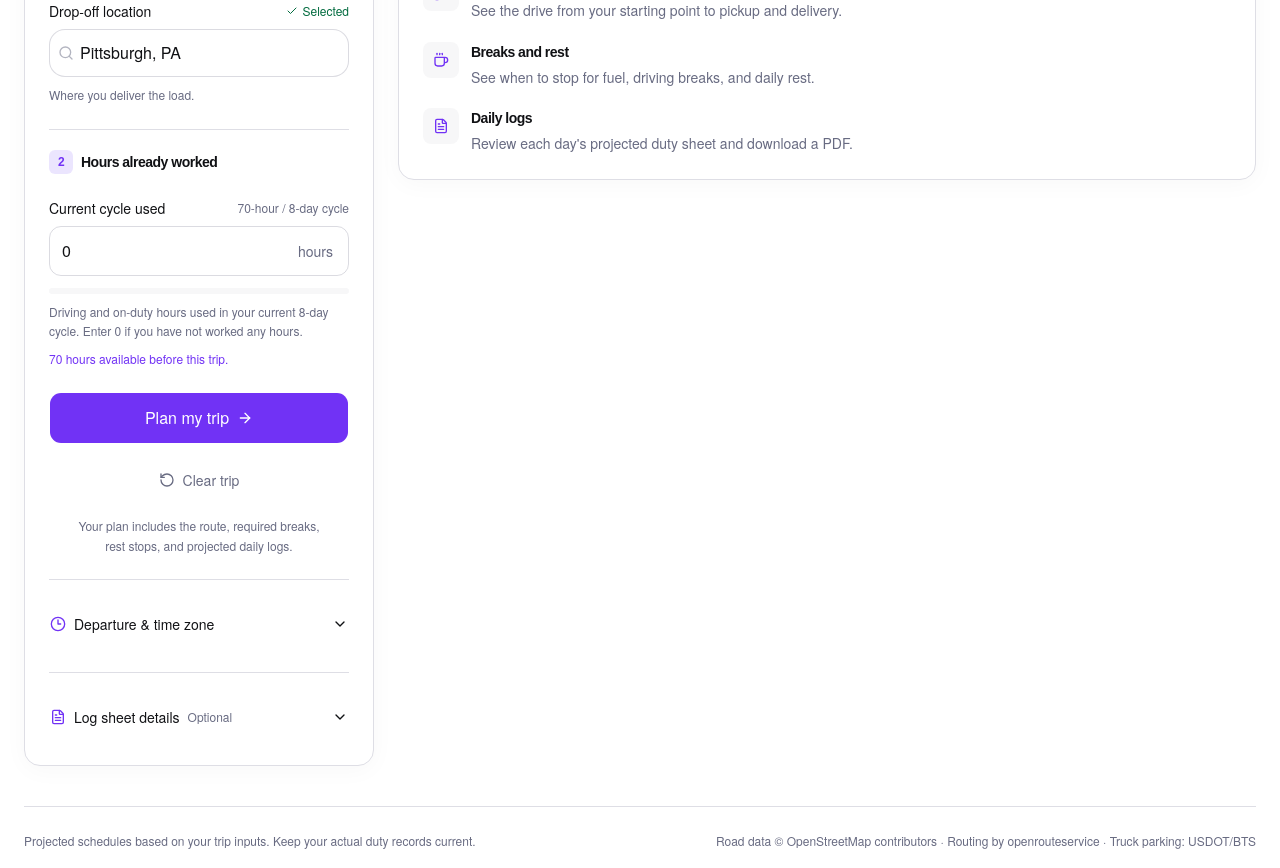
replaces the empty workspace with trip skeletons during planning and restores it when cancelled
(page scrolled)
Click the button "Plan my trip": (199, 418) top-left (49, 392), bottom-right (349, 444)
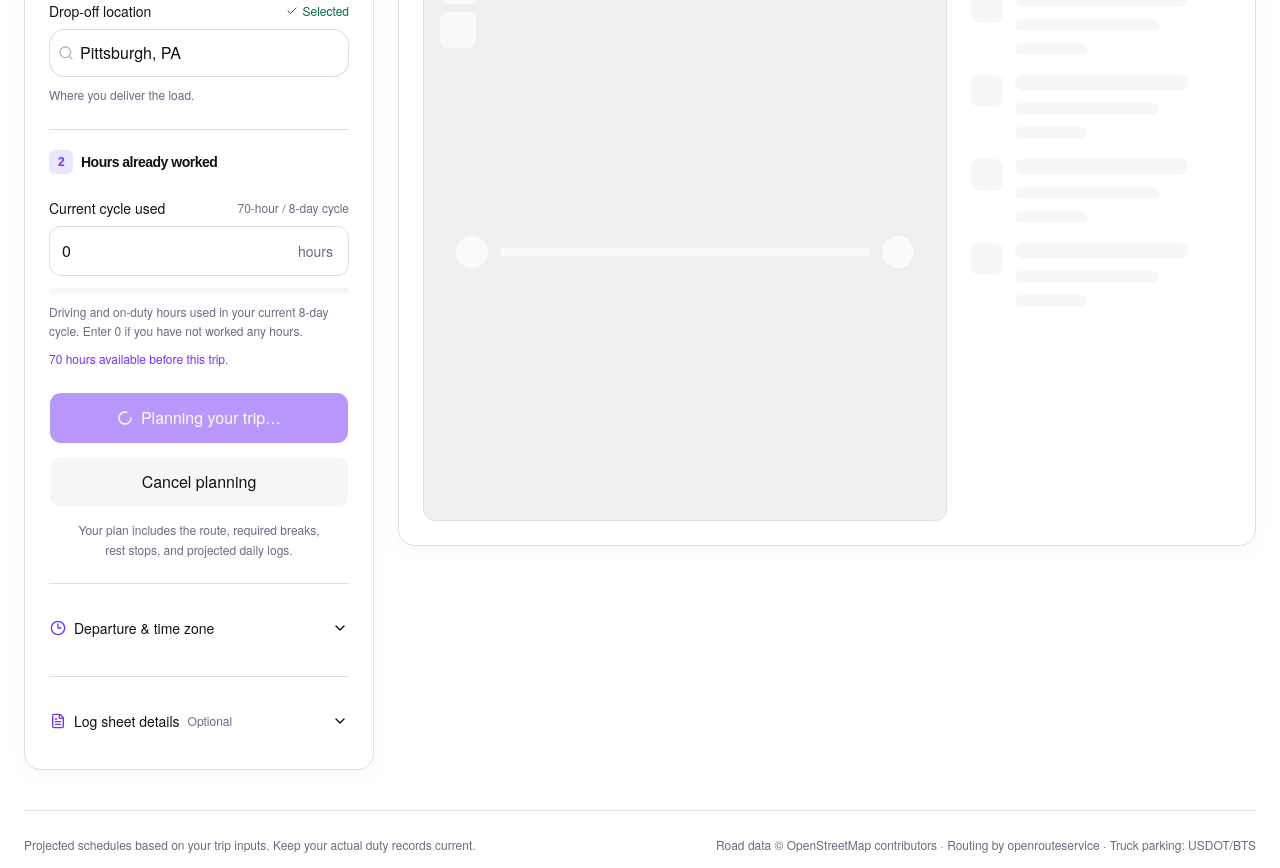
Click the button "Cancel planning": (199, 482) top-left (49, 456), bottom-right (349, 508)
(page scrolled)
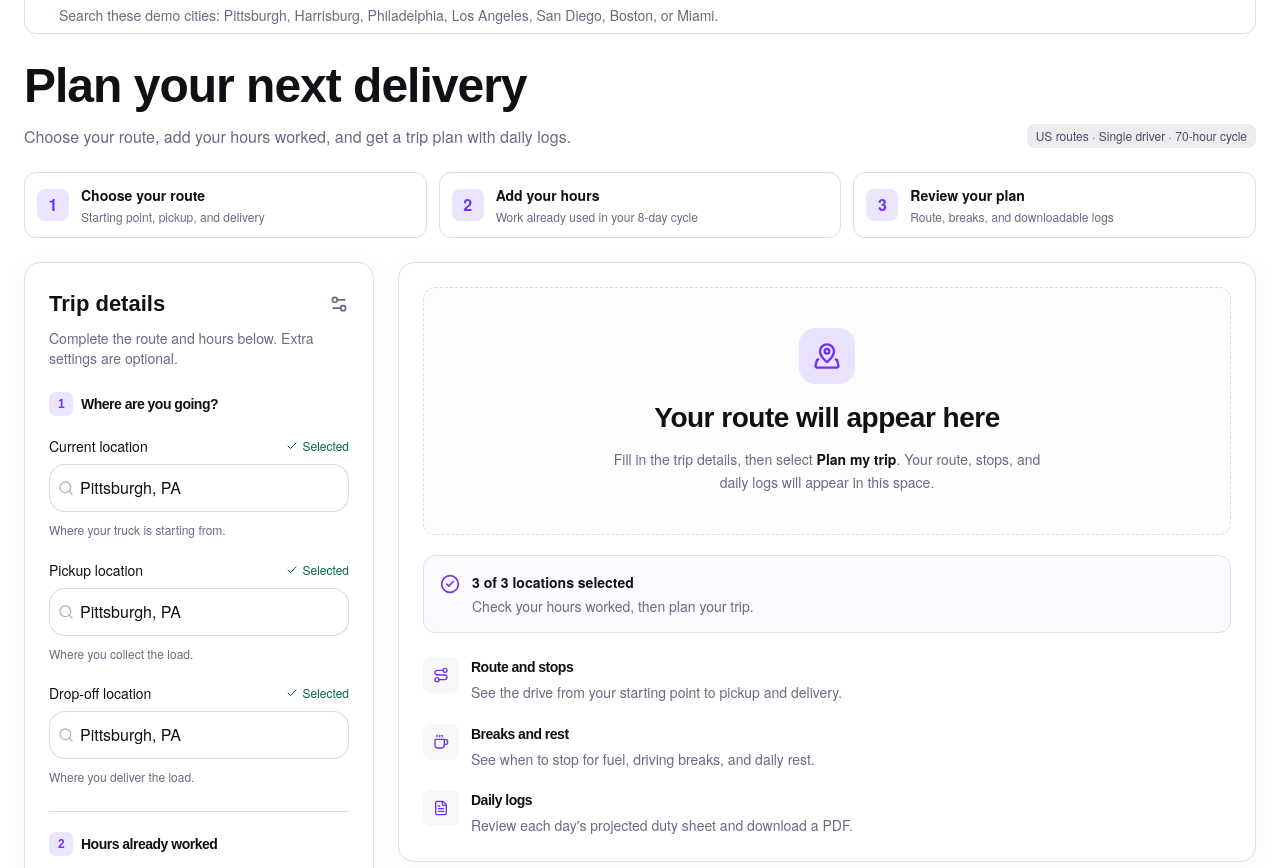
Result: the heading "Your route will appear here" is shown at top-left (654, 402), bottom-right (1000, 433)
